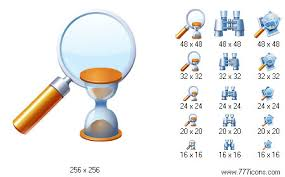searchIcon: (12, 10, 137, 134)
